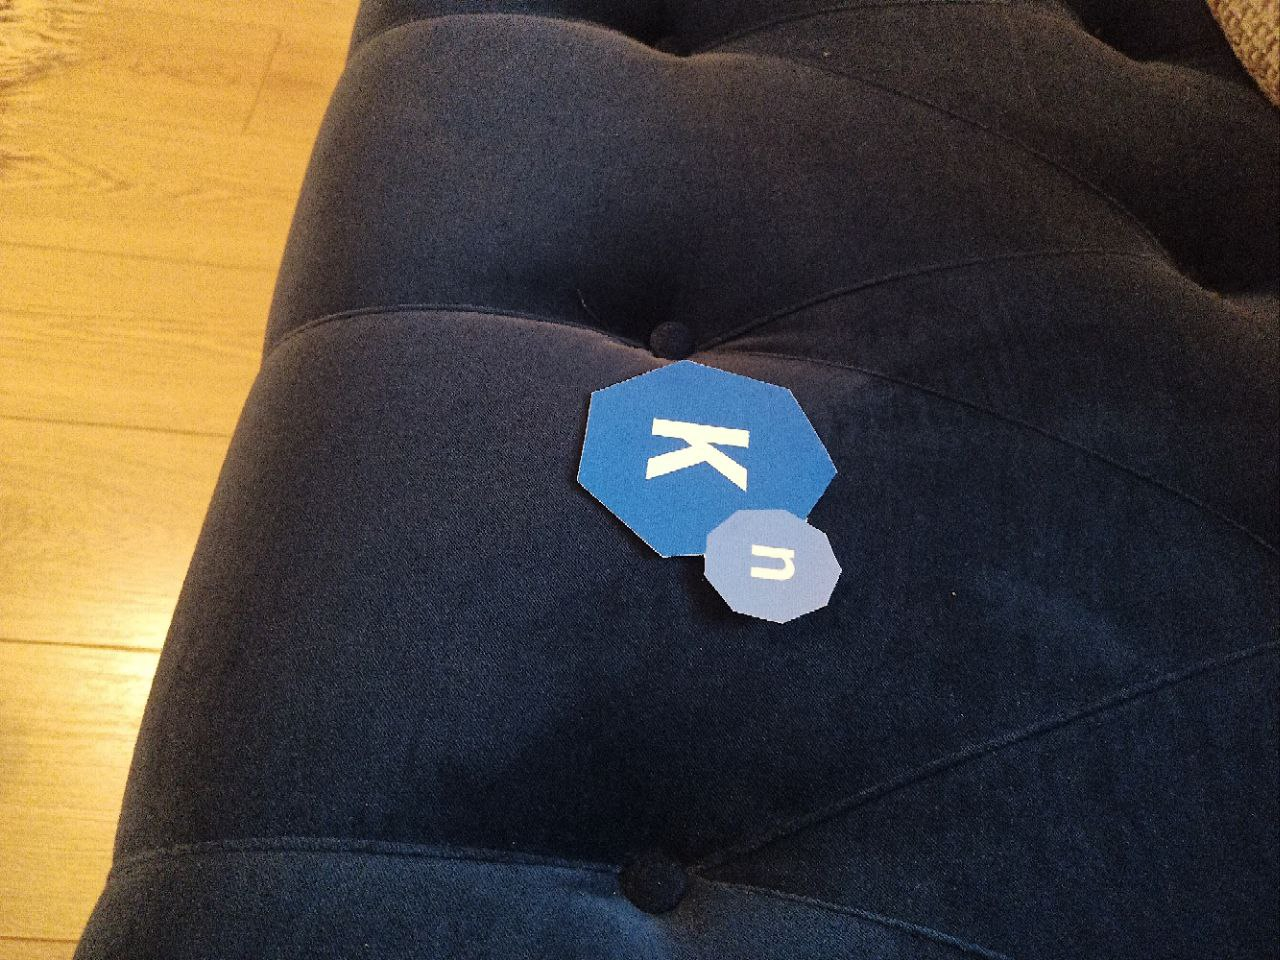knative: (573, 358, 846, 629)
